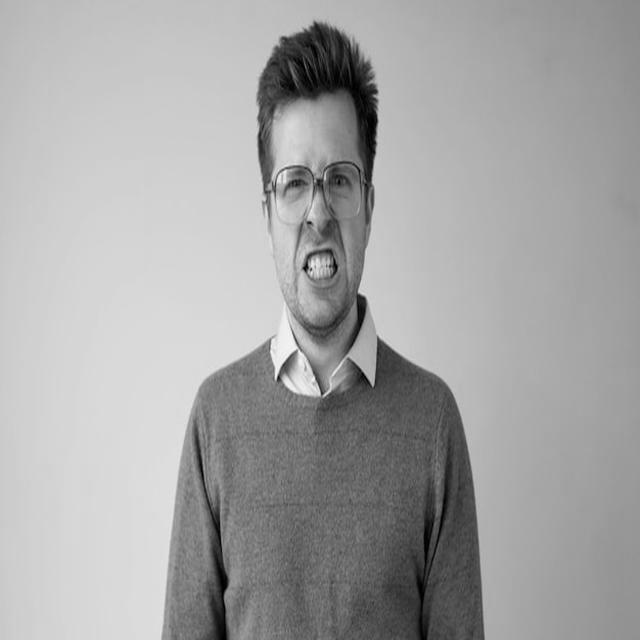Angry: (269, 98, 368, 328)
